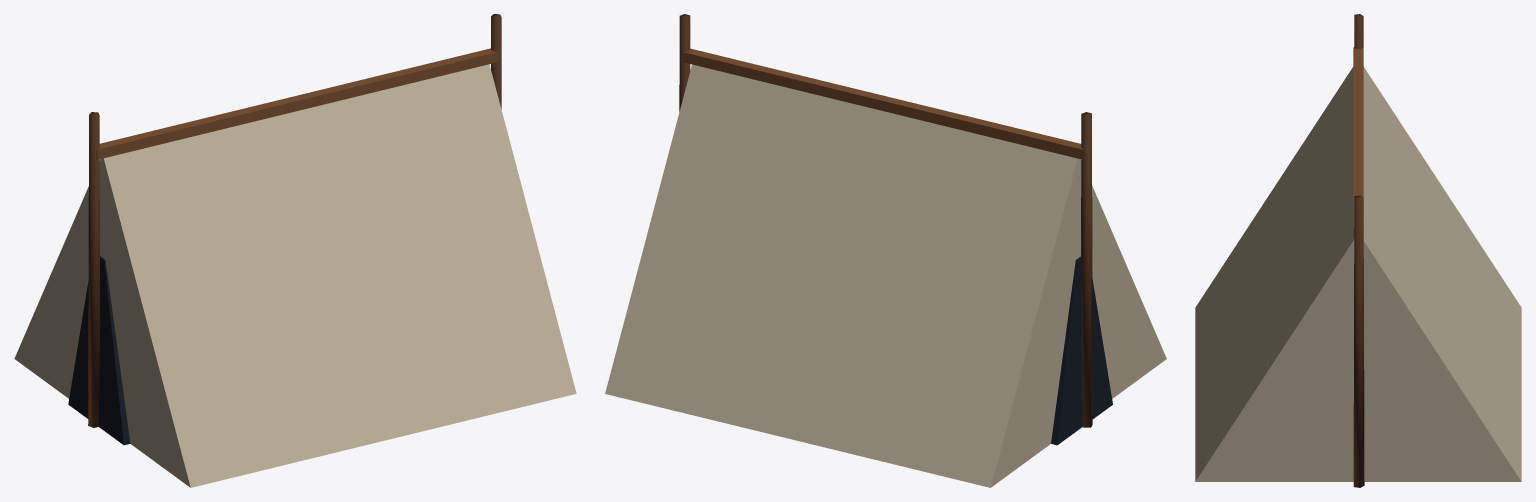
The model's file is namet.glb.
3 renders of one model, left to right at view 1: azimuth 30°, elevation 25°; view 2: azimuth 150°, elevation 25°; view 3: azimuth 270°, elevation 25°, orthographic. The views are drawn at different scales.
Visible parts, largest first — view 1: namet; view 2: namet; view 3: namet.
Boxes of the visible parts, left/top/right/bottom form: namet: left=14, top=14, right=576, bottom=487; namet: left=605, top=14, right=1166, bottom=487; namet: left=1195, top=14, right=1521, bottom=487.
Bounding box in the file's own units: 2.57 × 1.85 × 1.9.
